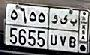5: (9, 9, 18, 45), (37, 11, 46, 47), (28, 11, 36, 46)
6: (18, 8, 26, 46)
B: (69, 17, 77, 49)
U: (50, 13, 57, 47)
V: (59, 13, 68, 47)
